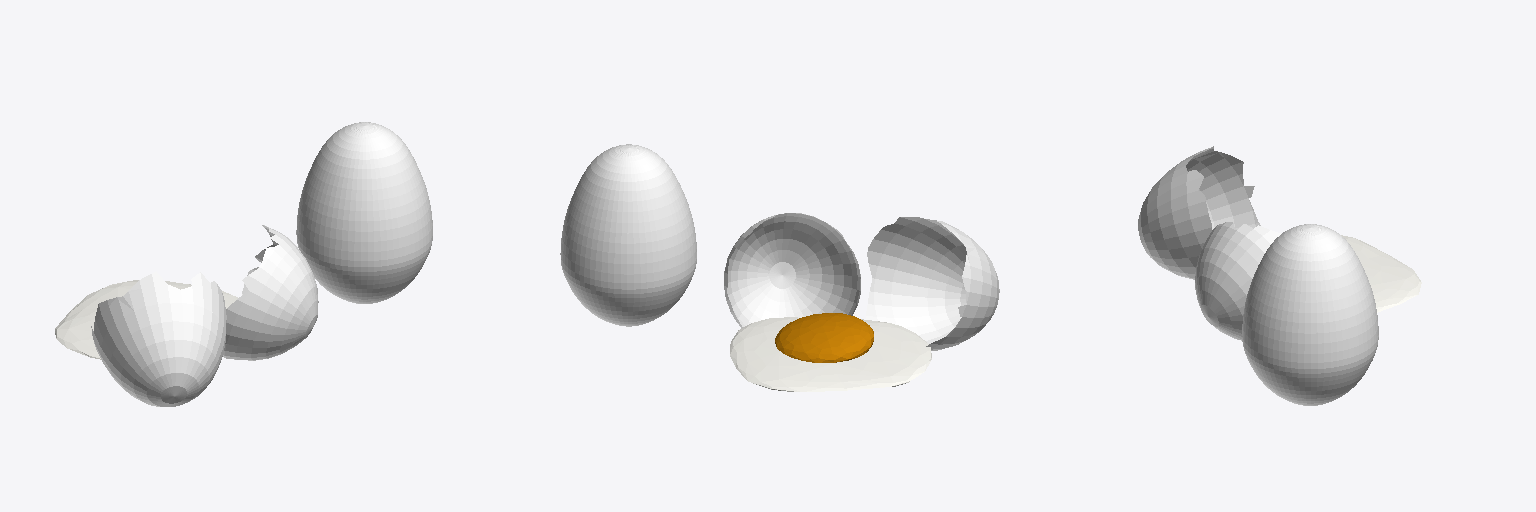
File: UncrackedEgg_239.obj
The picture shows the model from 3 angles: view 1: azimuth 30°, elevation 25°; view 2: azimuth 150°, elevation 25°; view 3: azimuth 270°, elevation 25°; orthographic projection.
Parts seen in each view (by area): view 1: Sphere001, Sphere003, Sphere002, GeoSphere002; view 2: Sphere001, Sphere003, Sphere002, GeoSphere002, GeoSphere001; view 3: Sphere001, Sphere003, Sphere002, GeoSphere002.
Boxes of the visible parts, x1=… form: Sphere001: x1=296, y1=122, x2=432, y2=303; Sphere003: x1=91, y1=271, x2=226, y2=406; Sphere002: x1=223, y1=225, x2=318, y2=360; GeoSphere002: x1=55, y1=280, x2=237, y2=359; Sphere001: x1=560, y1=144, x2=696, y2=326; Sphere003: x1=865, y1=217, x2=999, y2=350; Sphere002: x1=724, y1=213, x2=860, y2=327; GeoSphere002: x1=730, y1=317, x2=931, y2=391; GeoSphere001: x1=775, y1=313, x2=873, y2=362; Sphere001: x1=1242, y1=224, x2=1378, y2=405; Sphere003: x1=1138, y1=146, x2=1260, y2=279; Sphere002: x1=1195, y1=222, x2=1280, y2=340; GeoSphere002: x1=1341, y1=235, x2=1421, y2=312.
Size of the model in its own units: 53.93 by 25 by 36.18.